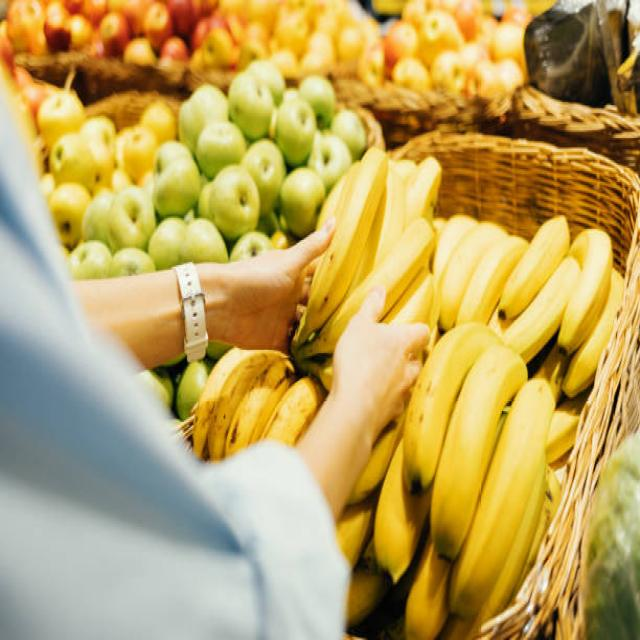article: (289, 146, 440, 385)
hands: (299, 289, 428, 516), (198, 220, 336, 357)
